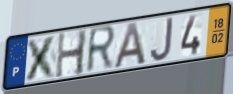4: (180, 13, 203, 58)
A: (112, 20, 148, 71)
H: (53, 28, 89, 81)
J: (148, 15, 175, 63)
R: (85, 24, 119, 77)
X: (23, 33, 59, 83)
